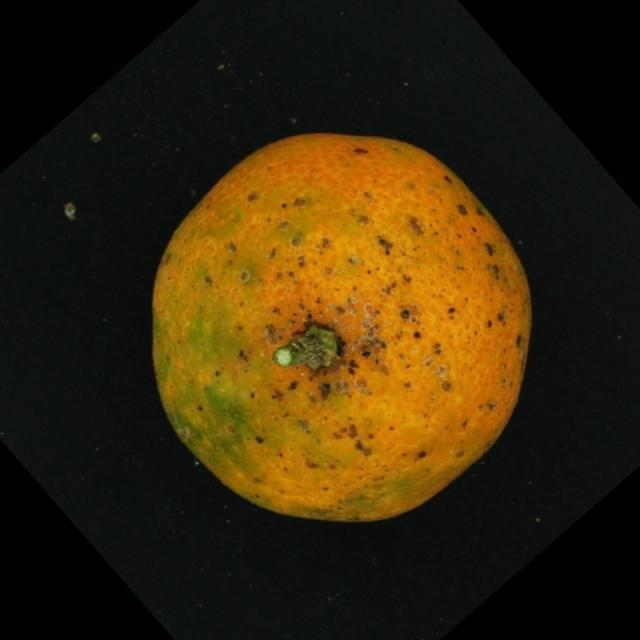grenning: (126, 106, 554, 554)
